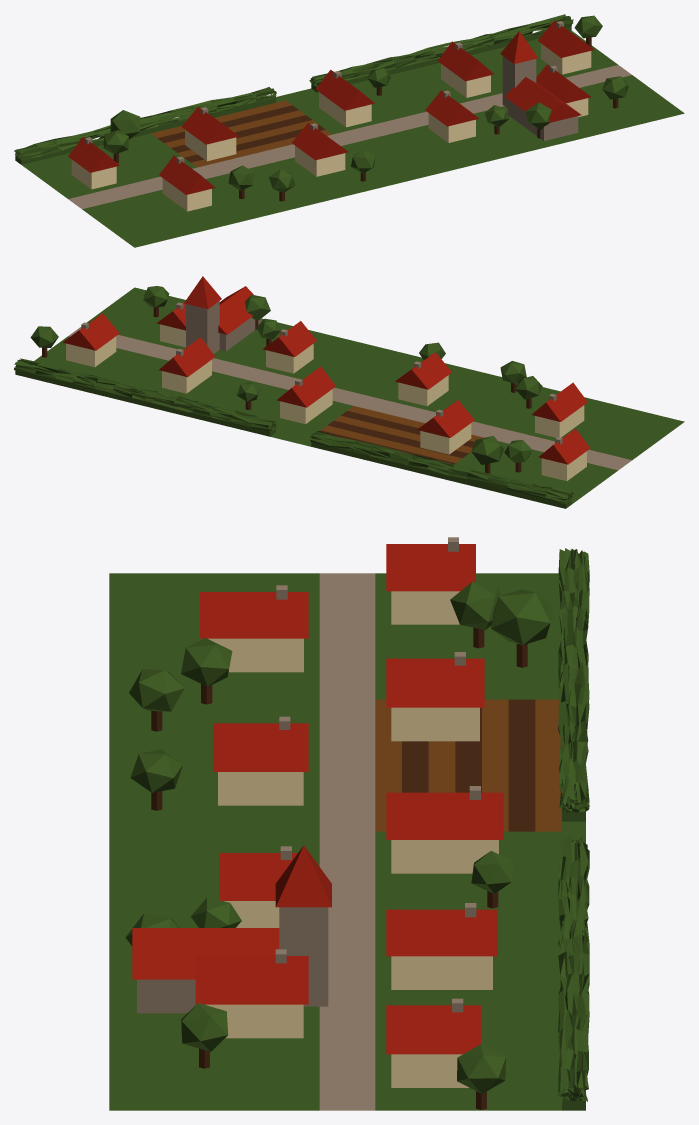
The model's file is villageA.glb.
3 views of the same model, one above another, from view 1: azimuth 30°, elevation 25°; view 2: azimuth 150°, elevation 25°; view 3: azimuth 270°, elevation 25° (orthographic). The views are drawn at different scales.
Visible parts, largest first — view 1: P12, P13, P2, P1, P4, P3, H65, H66, R55, R32, R26, R42 (+33 smaller); view 2: P12, P13, P1, H66, P2, H65, P4, P3, Tower56, R32, R42, R26 (+31 smaller); view 3: P12, P1, P13, P4, P2, P3, H66, H65, R55, R32, R45, R42 (+34 smaller).
Boxes of the visible parts, bbox=[...] form: P12: bbox=[347, 75, 684, 183]; P13: bbox=[286, 30, 617, 134]; P2: bbox=[82, 178, 263, 247]; P1: bbox=[68, 65, 631, 209]; P4: bbox=[211, 145, 398, 215]; P3: bbox=[22, 133, 196, 198]; H65: bbox=[14, 87, 276, 164]; H66: bbox=[309, 14, 573, 92]; R55: bbox=[504, 77, 581, 124]; R32: bbox=[315, 69, 374, 110]; R26: bbox=[181, 106, 239, 144]; R42: bbox=[438, 41, 493, 81]; P12: bbox=[86, 287, 419, 395]; P13: bbox=[34, 336, 353, 439]; P1: bbox=[68, 327, 631, 470]; H66: bbox=[14, 358, 276, 436]; P2: bbox=[503, 390, 684, 460]; H65: bbox=[309, 431, 573, 508]; P4: bbox=[368, 357, 555, 428]; P3: bbox=[455, 441, 617, 504]; Tower56: bbox=[186, 301, 219, 353]; R32: bbox=[277, 366, 335, 407]; R42: bbox=[159, 337, 215, 377]; R26: bbox=[417, 400, 474, 437]; P12: bbox=[109, 831, 319, 1110]; P1: bbox=[319, 573, 375, 1110]; P13: bbox=[375, 831, 561, 1110]; P4: bbox=[109, 699, 319, 831]; P2: bbox=[109, 573, 319, 699]; P3: bbox=[375, 573, 561, 699]; H66: bbox=[558, 837, 589, 1110]; H65: bbox=[558, 548, 589, 821]; R55: bbox=[132, 928, 279, 979]; R32: bbox=[386, 792, 503, 839]; R45: bbox=[195, 956, 308, 1004]; R42: bbox=[386, 909, 497, 956].
Bounding box in the file's own units: 16.28 × 2.1 × 6.05.
